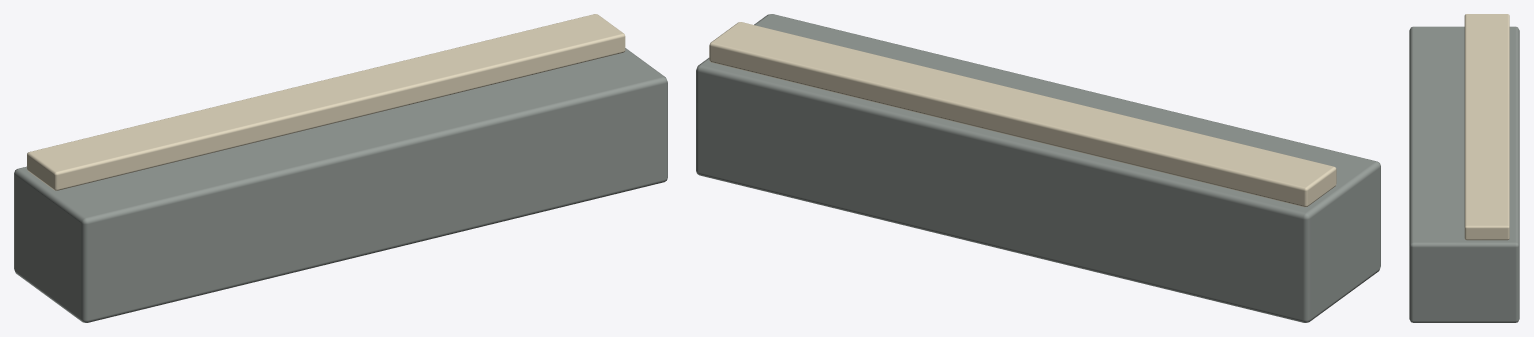
Rendered from canal-boats-and-lock-operations-canal-boats-and-lock-o-fa0092d6__31629.glb.
The picture shows the model from 3 angles, left to right: view 1: azimuth 30°, elevation 25°; view 2: azimuth 150°, elevation 25°; view 3: azimuth 270°, elevation 25°; orthographic projection. The views are drawn at different scales.
Parts seen in each view (by area): view 1: canal-boats-and-lock-operations-lock-cill; view 2: canal-boats-and-lock-operations-lock-cill; view 3: canal-boats-and-lock-operations-lock-cill.
Boxes of the visible parts, <box> form: canal-boats-and-lock-operations-lock-cill: <box>14,14,667,322</box>; canal-boats-and-lock-operations-lock-cill: <box>696,14,1380,322</box>; canal-boats-and-lock-operations-lock-cill: <box>1409,14,1519,322</box>.
Size of the model in its own units: 3.2 by 0.6501 by 0.6801.
